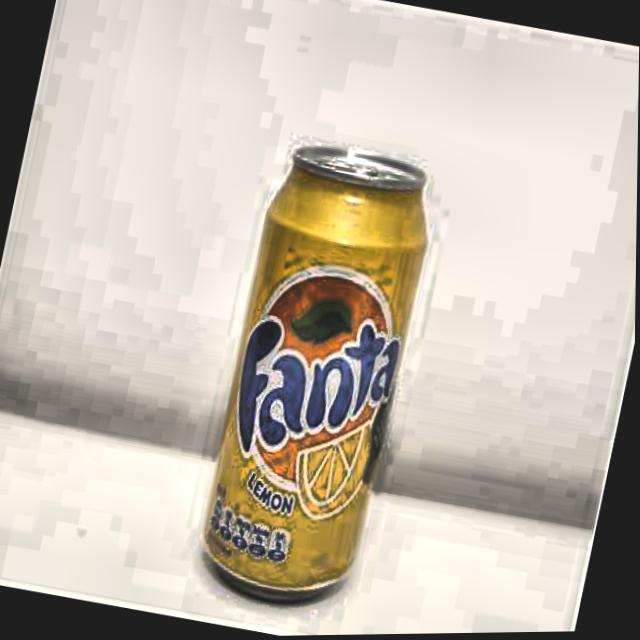Cans: (171, 113, 460, 631)
